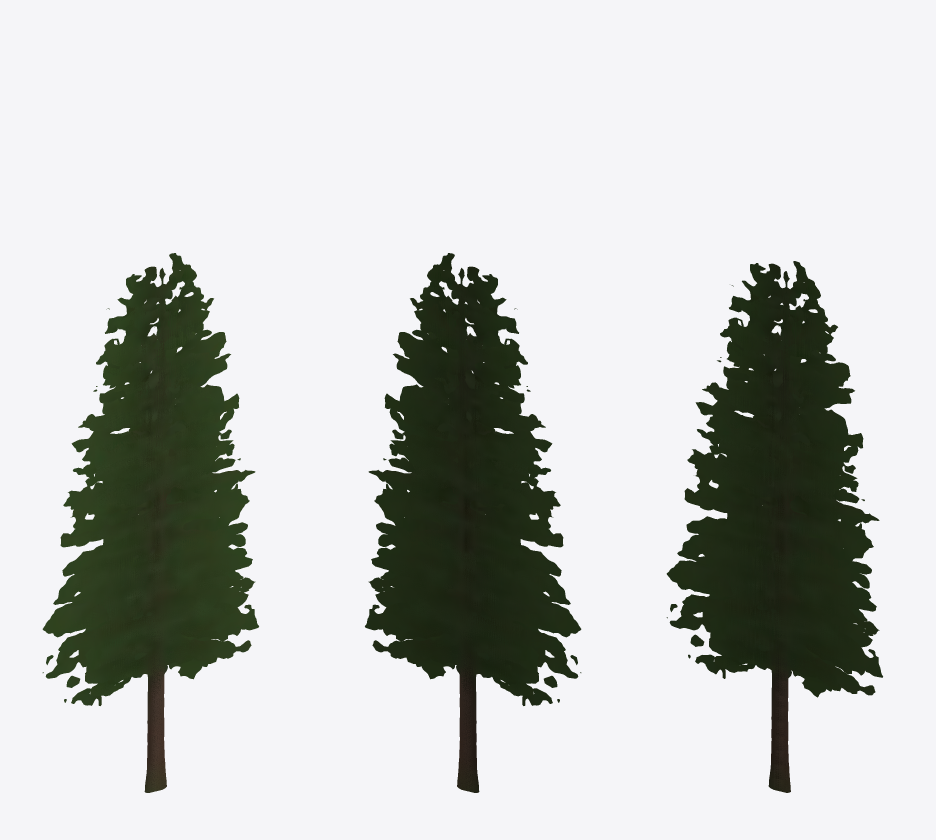
Rendered from hinoki.lite.glb.
3 views of the same model, side by side, from view 1: azimuth 30°, elevation 25°; view 2: azimuth 150°, elevation 25°; view 3: azimuth 330°, elevation 25° (orthographic).
Visible parts, largest first — view 1: v0_imp, v1_imp, v2_imp; view 2: v1_imp, v0_imp, v2_imp; view 3: v1_imp, v0_imp, v2_imp.
Part boxes in pixels (x1=…): v0_imp: x1=53, y1=267, x2=251, y2=792; v1_imp: x1=42, y1=253, x2=258, y2=792; v2_imp: x1=42, y1=298, x2=250, y2=790; v1_imp: x1=365, y1=253, x2=581, y2=792; v0_imp: x1=372, y1=267, x2=570, y2=792; v2_imp: x1=375, y1=298, x2=581, y2=790; v1_imp: x1=666, y1=261, x2=882, y2=792; v0_imp: x1=677, y1=263, x2=875, y2=792; v2_imp: x1=666, y1=285, x2=874, y2=792.
Size of what is drawn, in the model's own units: 9.68 by 24.19 by 0.
1 material, 1 textured.
